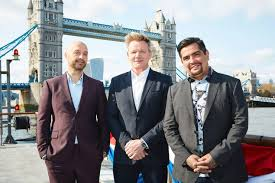Bad: (107, 32, 248, 183), (36, 32, 167, 182)
